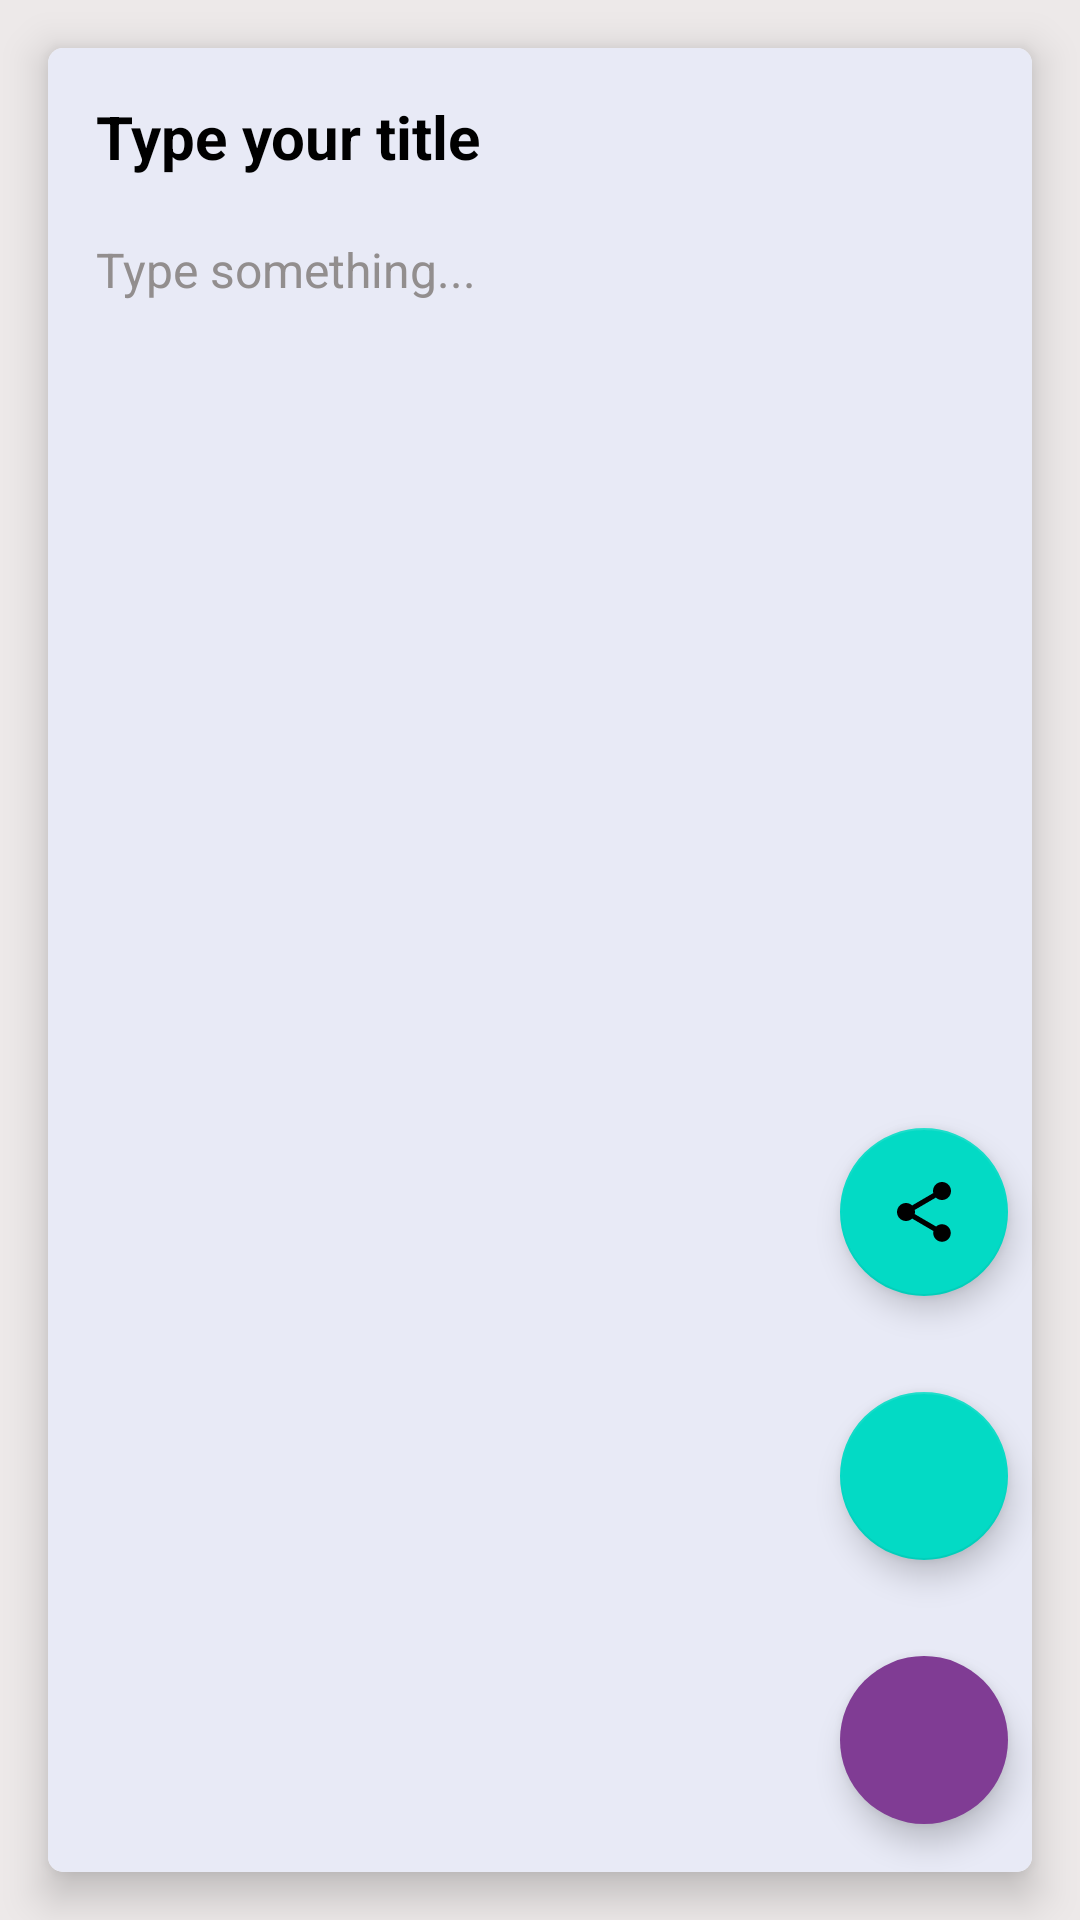

Locate icon controls on the screen. Image size 1080w x 1920h, boxes as {"x1": x1, "y1": y1, "x2": x2, "y2": y2}.
share: {"x1": 840, "y1": 1128, "x2": 1008, "y2": 1296}
